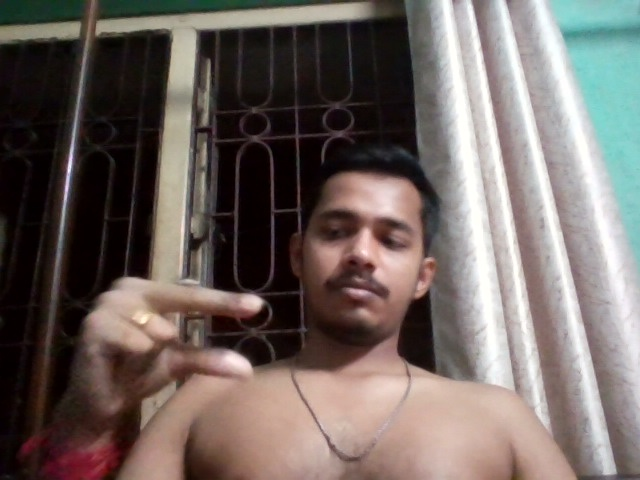No: (57, 258, 306, 421)
